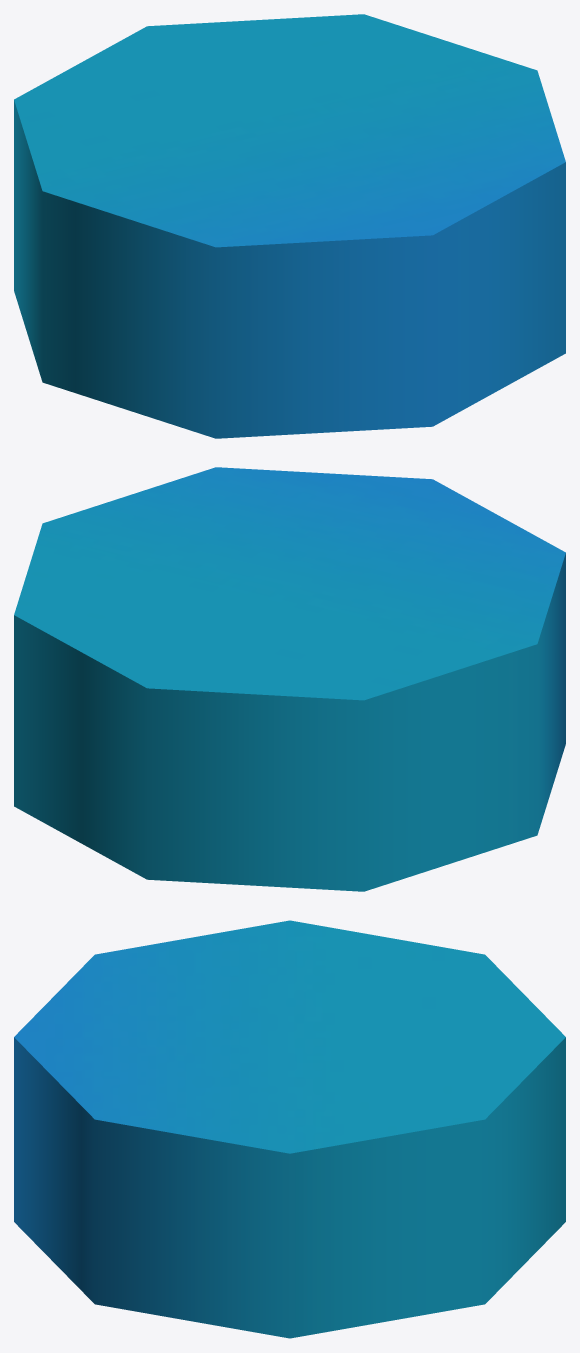
Rendered from SM_Shape_Circle_8_Sides__01.fbx.
3 views of the same model, one above another, from view 1: azimuth 30°, elevation 25°; view 2: azimuth 150°, elevation 25°; view 3: azimuth 270°, elevation 25° (orthographic). The views are drawn at different scales.
Parts seen in each view (by area): view 1: SM_Shape_Circle_8_Sides__01; view 2: SM_Shape_Circle_8_Sides__01; view 3: SM_Shape_Circle_8_Sides__01.
Boxes of the visible parts, bbox=[...] form: SM_Shape_Circle_8_Sides__01: bbox=[14, 14, 565, 438]; SM_Shape_Circle_8_Sides__01: bbox=[14, 467, 565, 891]; SM_Shape_Circle_8_Sides__01: bbox=[14, 920, 565, 1338].
Size of the model in its own units: 6.73 by 2.49 by 6.73.
